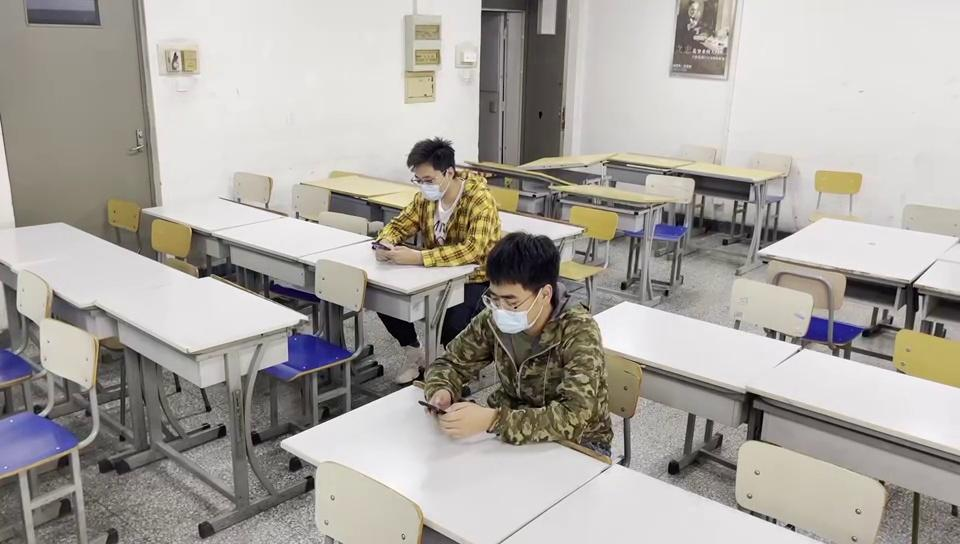phone: (425, 269, 594, 440), (377, 143, 480, 263)
